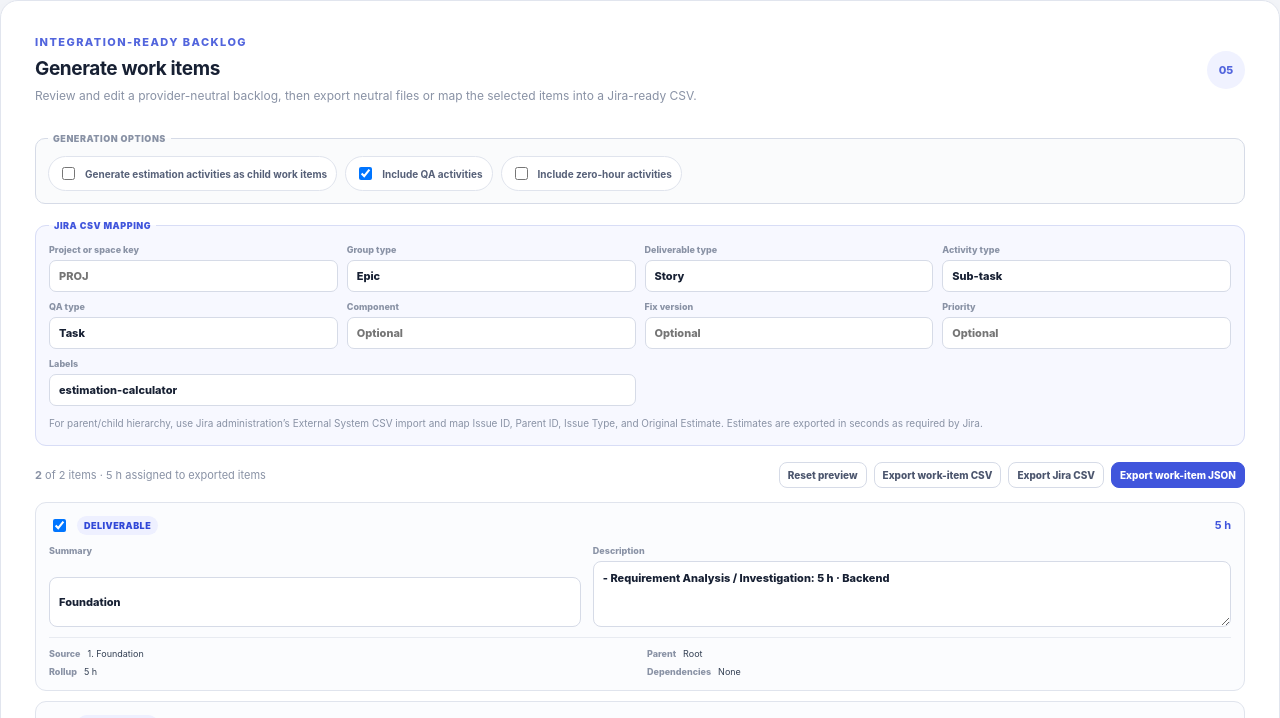
WorkItemGenerationPanel › can include the default zero-hour QA backlog
Click the checkbox labelled "Include zero-hour activities". click: (521, 174)
box: [514,167,528,180]
(page scrolled)
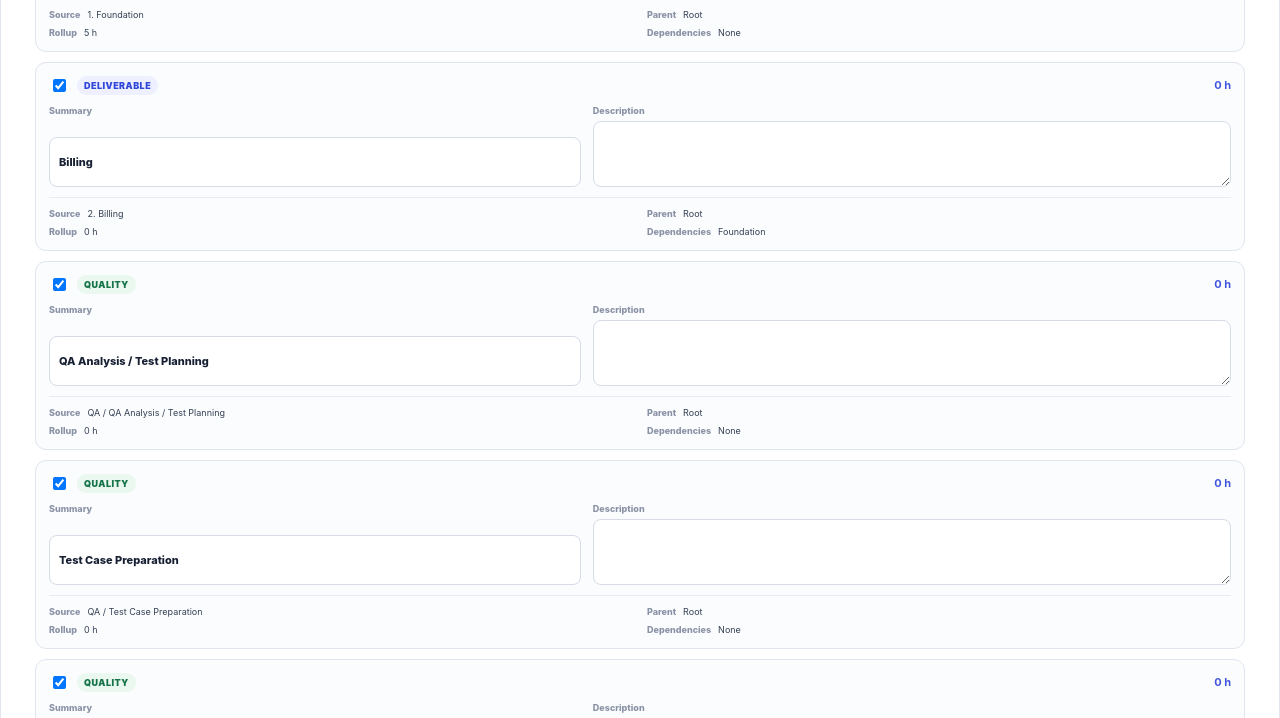
Expected: the 2nd field showing "QA Analysis / Test Planning" is shown, [49,336,581,386]
Expected: the text "quality" is shown 6 times
